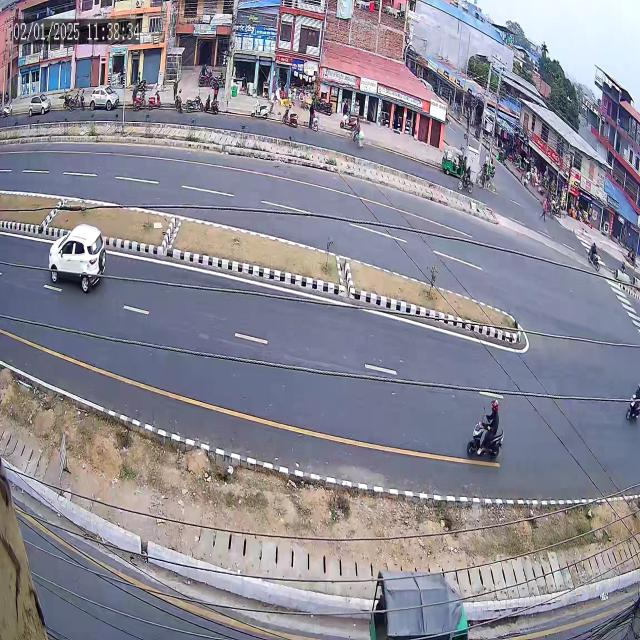car: (36, 214, 114, 312)
motorcycle: (460, 376, 512, 486), (624, 371, 640, 426), (584, 235, 604, 272)
